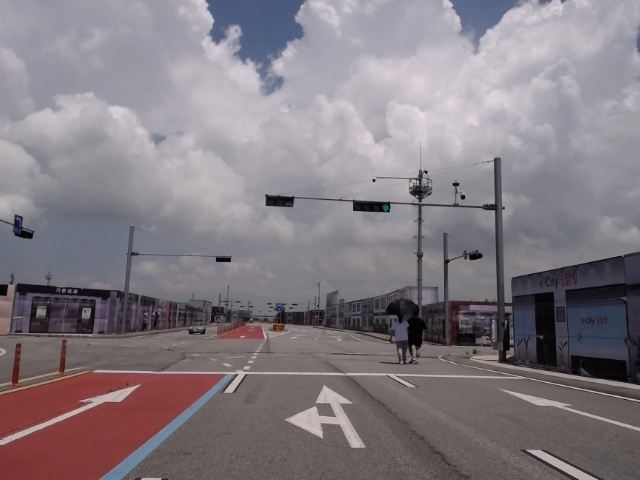straight_green_4: (352, 200, 391, 212)
